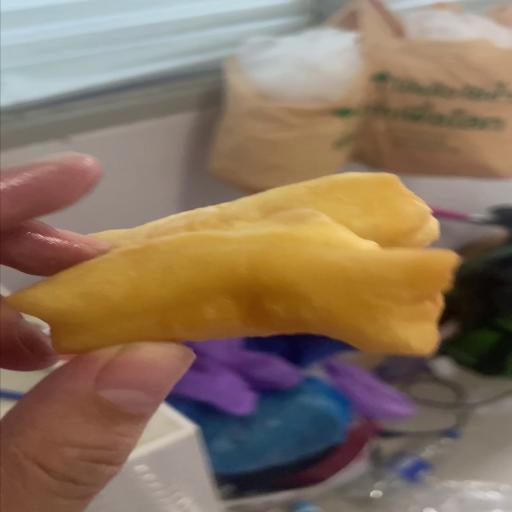street_golden_good: (7, 174, 458, 354)
